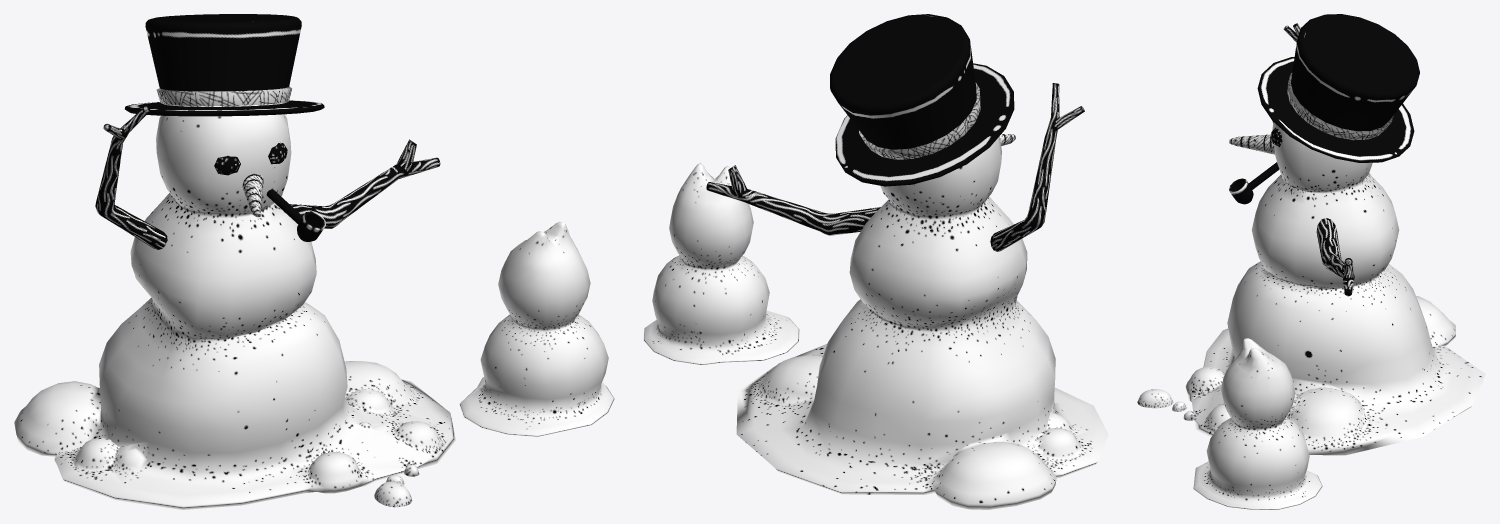
The model's file is Day11Snow.fbx.
3 renders of one model, left to right at view 1: azimuth 30°, elevation 25°; view 2: azimuth 150°, elevation 25°; view 3: azimuth 270°, elevation 25°, orthographic. The views are drawn at different scales.
Parts seen in each view (by area): view 1: SnowManAndCat; view 2: SnowManAndCat; view 3: SnowManAndCat.
Boxes of the visible parts, <box> form: SnowManAndCat: <box>14,14,614,509</box>; SnowManAndCat: <box>643,14,1108,509</box>; SnowManAndCat: <box>1137,14,1485,509</box>.
Size of the model in its own units: 244 by 197 by 177.
1 material, 1 textured.
